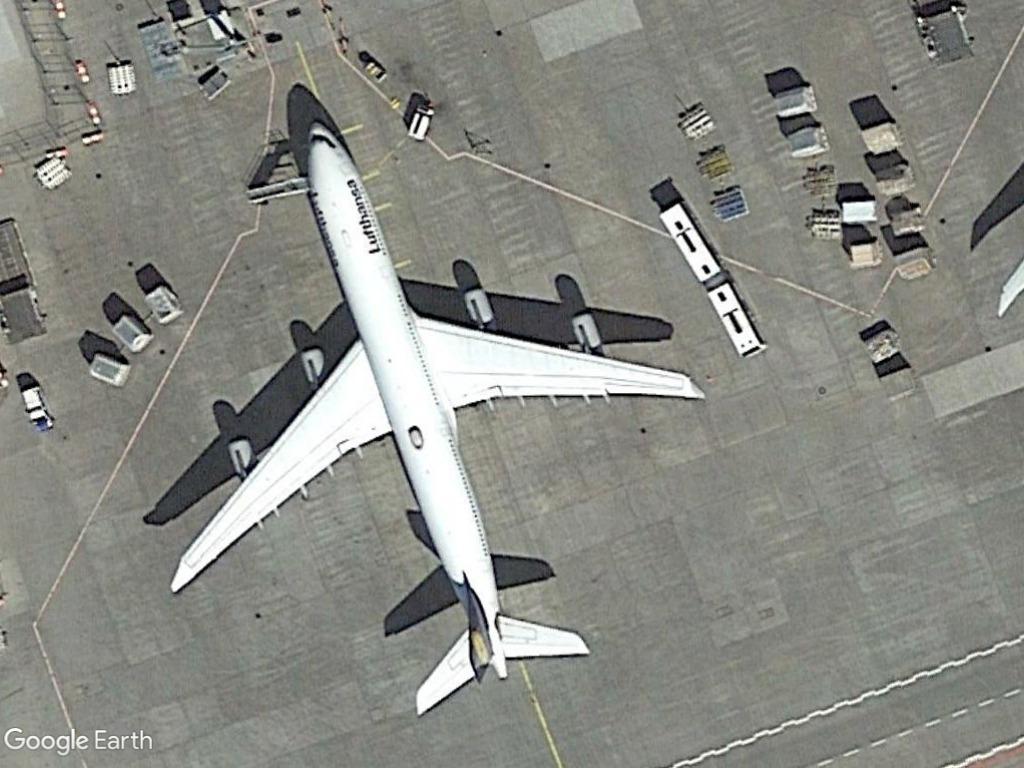airliner: (161, 108, 700, 723)
bus: (655, 194, 720, 286), (705, 277, 771, 359)
